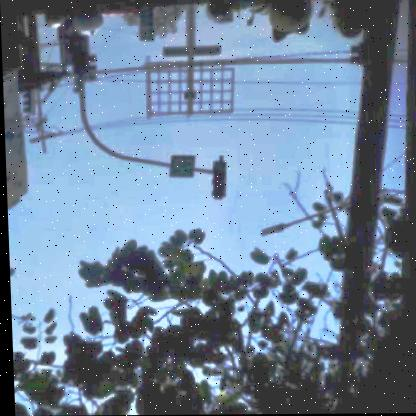Traffic Light -Green-: (68, 34, 89, 74), (211, 160, 231, 199)
